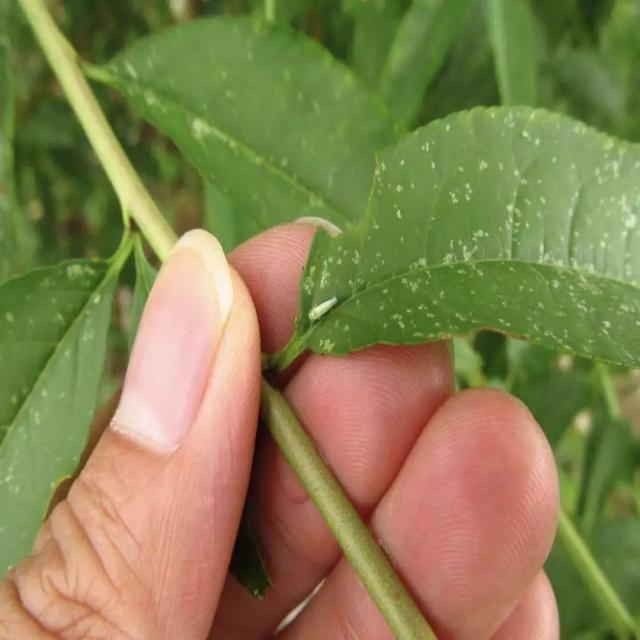Yechan: (305, 289, 339, 323)
